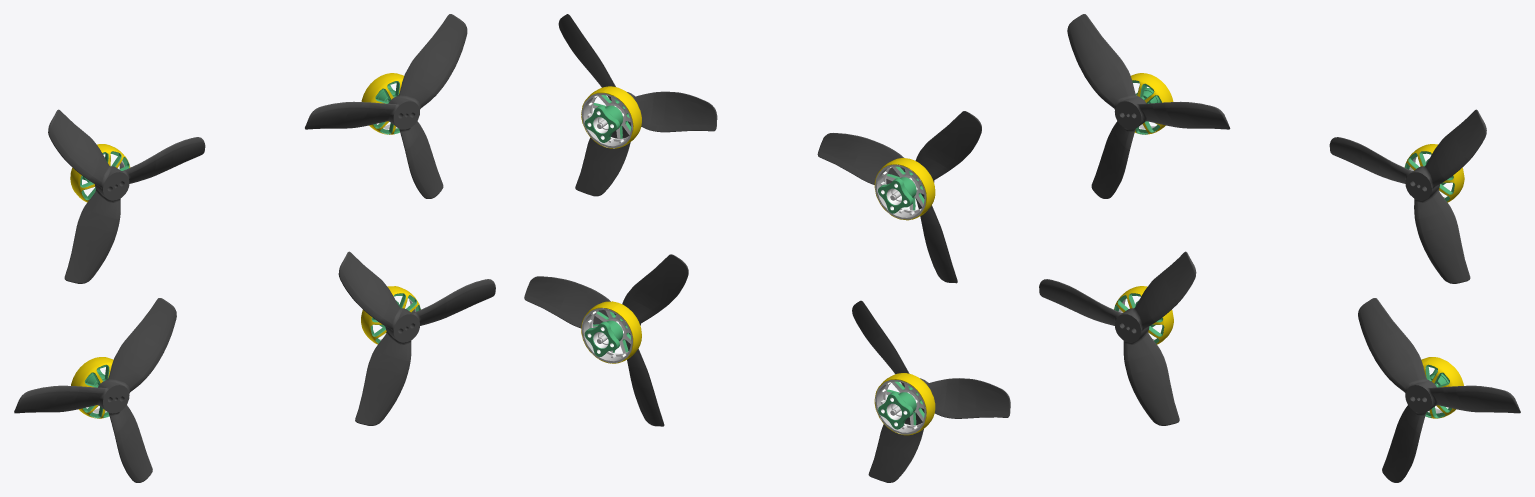
Rendered from drive.glb.
3 views of the same model, side by side, from view 1: azimuth 30°, elevation 25°; view 2: azimuth 150°, elevation 25°; view 3: azimuth 330°, elevation 25° (orthographic).
Visible parts, largest first — view 1: prop-3, prop-1, prop-4, prop-2, motor-1-body-0, motor-2-body-0, motor-3-body-4, motor-4-body-0; view 2: prop-4, prop-1, prop-2, prop-3, motor-3-body-4, motor-2-body-0, motor-4-body-0, motor-1-body-0, motor-3-body-3, motor-2-body-1, motor-1-body-4, motor-4-body-2 (+4 smaller); view 3: prop-4, prop-2, prop-3, prop-1, motor-4-body-0, motor-3-body-4, motor-1-body-0, motor-2-body-0.
Part boxes in pixels (x1,y1,x2,y2): prop-3: (14, 298, 176, 482); prop-1: (48, 109, 205, 283); prop-4: (338, 251, 495, 425); prop-2: (305, 14, 467, 198); motor-1-body-0: (361, 73, 403, 134); motor-2-body-0: (71, 357, 113, 418); motor-3-body-4: (70, 144, 130, 202); motor-4-body-0: (361, 286, 420, 344); prop-4: (524, 254, 688, 426); prop-1: (817, 111, 981, 283); prop-2: (558, 14, 717, 196); prop-3: (852, 300, 1010, 482); motor-3-body-4: (874, 158, 935, 220); motor-2-body-0: (874, 373, 935, 435); motor-4-body-0: (581, 301, 641, 363); motor-1-body-0: (581, 86, 641, 148); motor-3-body-3: (878, 177, 916, 213); motor-2-body-1: (878, 392, 916, 429); motor-1-body-4: (584, 105, 623, 142); motor-4-body-2: (584, 320, 623, 356); prop-4: (1358, 298, 1520, 482); prop-2: (1329, 109, 1486, 283); prop-3: (1039, 251, 1196, 425); prop-1: (1067, 14, 1230, 198); motor-4-body-0: (1421, 357, 1463, 418); motor-3-body-4: (1131, 73, 1173, 134); motor-1-body-0: (1404, 144, 1464, 202); motor-2-body-0: (1114, 286, 1173, 344).
Size of the model in its own units: 0.1906 by 0.1478 by 0.0202.
